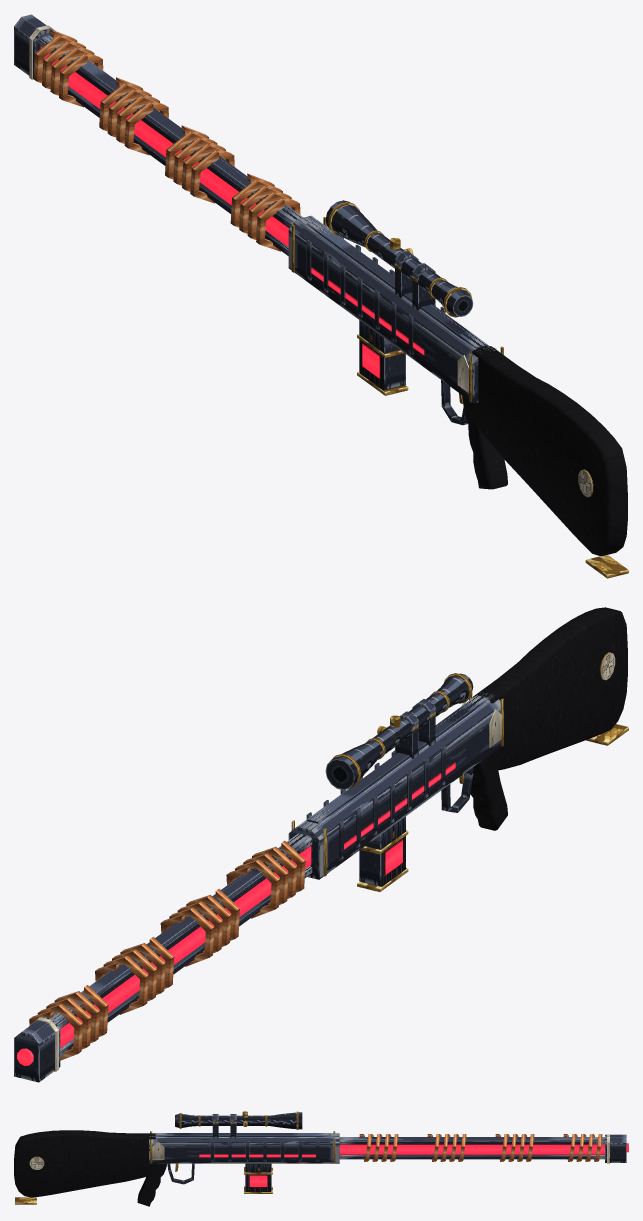
The model's file is sniper_rail_base.glb.
3 renders of one model, top to bottom at view 1: azimuth 30°, elevation 25°; view 2: azimuth 150°, elevation 25°; view 3: azimuth 270°, elevation 25°, orthographic. The views are drawn at different scales.
Visible parts, largest first — view 1: receiver, furniture, magazine; view 2: receiver, furniture, magazine; view 3: receiver, furniture, magazine.
Boxes of the visible parts, x1=… form: receiver: x1=14, y1=14, x2=503, y2=425; furniture: x1=457, y1=346, x2=628, y2=578; magazine: x1=357, y1=320, x2=408, y2=395; receiver: x1=14, y1=673, x2=503, y2=1082; furniture: x1=461, y1=607, x2=628, y2=830; magazine: x1=357, y1=816, x2=408, y2=891; receiver: x1=149, y1=1111, x2=628, y2=1184; furniture: x1=14, y1=1130, x2=167, y2=1206; magazine: x1=244, y1=1163, x2=272, y2=1193.
Bounding box in the file's own units: 0.0608 × 0.2332 × 1.4.
3 materials, 3 textured.
